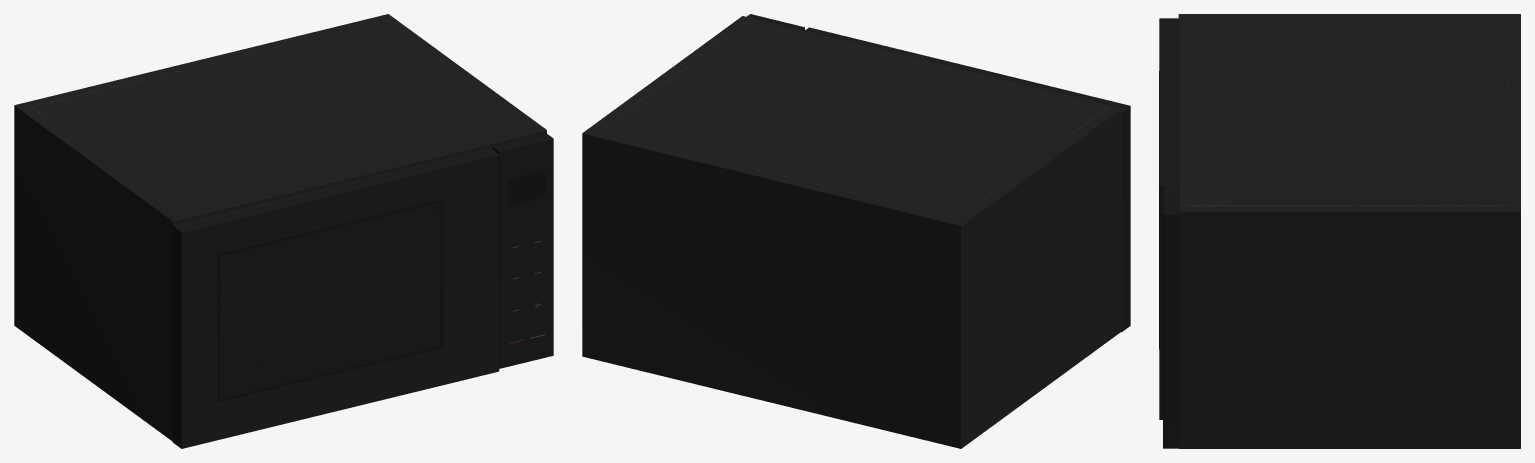
3 views of the same model, side by side, from view 1: azimuth 30°, elevation 25°; view 2: azimuth 150°, elevation 25°; view 3: azimuth 270°, elevation 25° (orthographic). The views are drawn at different scales.
Parts seen in each view (by area): view 1: BodyShell, DoorBody, WindowMesh, ControlPanel, WindowSurround, ControlDisplay; view 2: BodyShell, DoorBody; view 3: BodyShell, DoorBody, ControlPanel.
Part boxes in pixels (box(x1,y1,x2,y2)): BodyShell: box(14, 14, 546, 441); DoorBody: box(172, 148, 499, 448); WindowMesh: box(220, 203, 439, 398); ControlPanel: box(492, 133, 553, 368); WindowSurround: box(217, 199, 443, 402); ControlDisplay: box(508, 170, 544, 206); BodyShell: box(582, 16, 1121, 448); DoorBody: box(804, 27, 1130, 332); BodyShell: box(1178, 14, 1520, 448); DoorBody: box(1159, 18, 1178, 419); ControlPanel: box(1163, 186, 1178, 448).
Bounding box in the file's own units: 0.476 × 0.272 × 0.369.
Materials: 10 (1 with a texture image).
